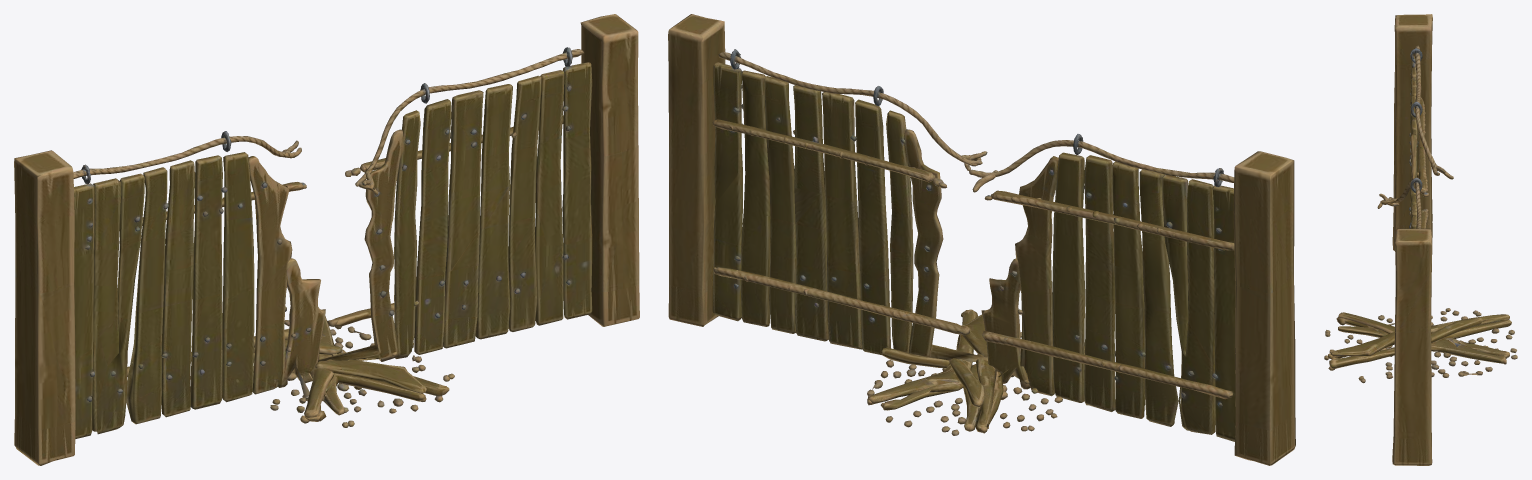
The model's file is av_muro_quebrado.glb.
3 views of the same model, side by side, from view 1: azimuth 30°, elevation 25°; view 2: azimuth 150°, elevation 25°; view 3: azimuth 270°, elevation 25° (orthographic). The views are drawn at different scales.
Visible parts, largest first — view 1: Mesh_0; view 2: Mesh_0; view 3: Mesh_0.
Part boxes in pixels (bbox=[...]): Mesh_0: bbox=[14, 14, 639, 465]; Mesh_0: bbox=[668, 14, 1295, 465]; Mesh_0: bbox=[1324, 14, 1517, 465].
Size of the model in its own units: 1 by 0.4639 by 0.3604.
1 material, 1 textured.
